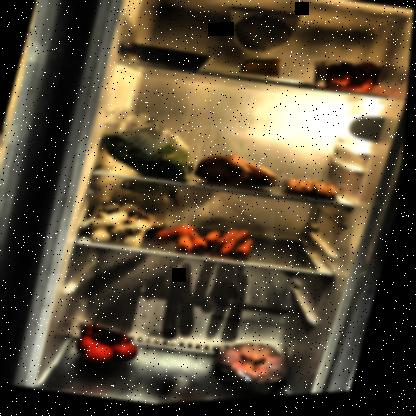carrot: (151, 216, 265, 271)
cheese: (239, 55, 286, 86)
chicken: (205, 334, 311, 403)
mushrooms: (88, 197, 165, 254)
shrimp: (286, 175, 348, 207)
spinach: (90, 111, 209, 191)
strawberries: (313, 56, 395, 105)
sweet_potato: (194, 147, 290, 199)
tomato: (75, 318, 152, 376)
